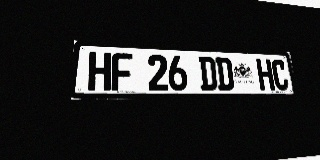2: (148, 54, 168, 91)
6: (167, 55, 188, 91)
C: (270, 59, 289, 90)
D: (198, 56, 218, 90), (215, 57, 235, 90)
F: (111, 53, 132, 91)
H: (88, 52, 111, 91), (256, 59, 275, 90)
